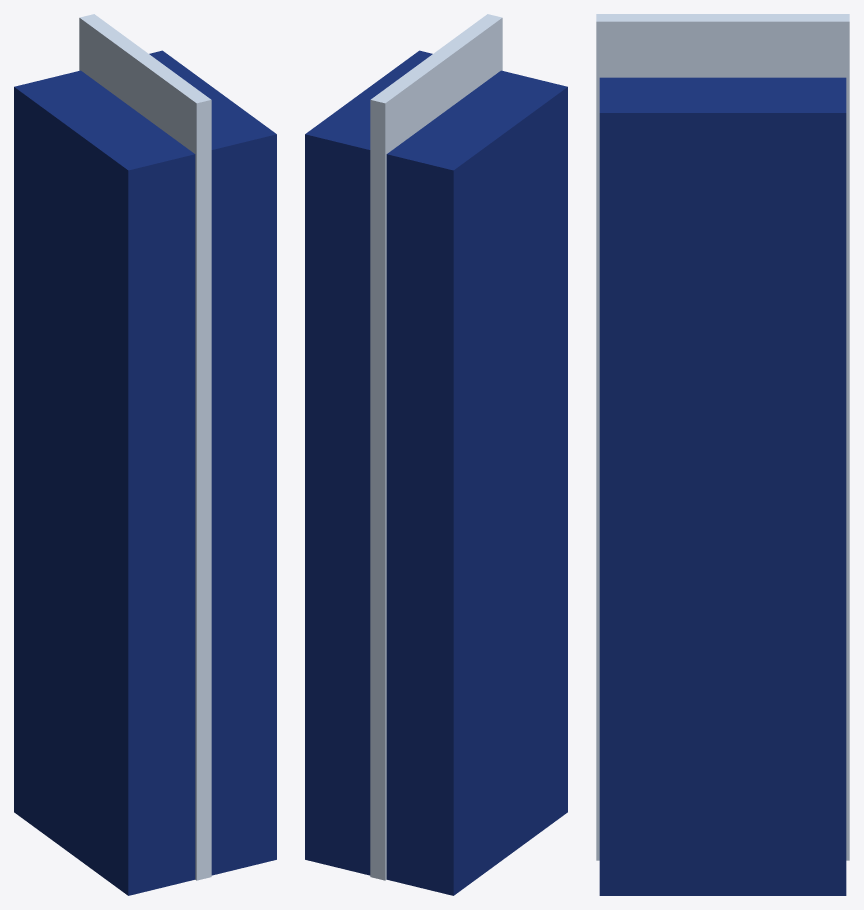
Rendered from glass_tower_b.glb.
3 renders of one model, left to right at view 1: azimuth 30°, elevation 25°; view 2: azimuth 150°, elevation 25°; view 3: azimuth 270°, elevation 25°, orthographic. The views are drawn at different scales.
Parts seen in each view (by area): view 1: GlassTowerB; view 2: GlassTowerB; view 3: GlassTowerB.
Part boxes in pixels (x1,y1,x2,y2): GlassTowerB: [14, 14, 276, 895]; GlassTowerB: [305, 14, 567, 895]; GlassTowerB: [596, 14, 849, 895].
Bounding box in the file's own units: 12 × 60 × 16.4.
